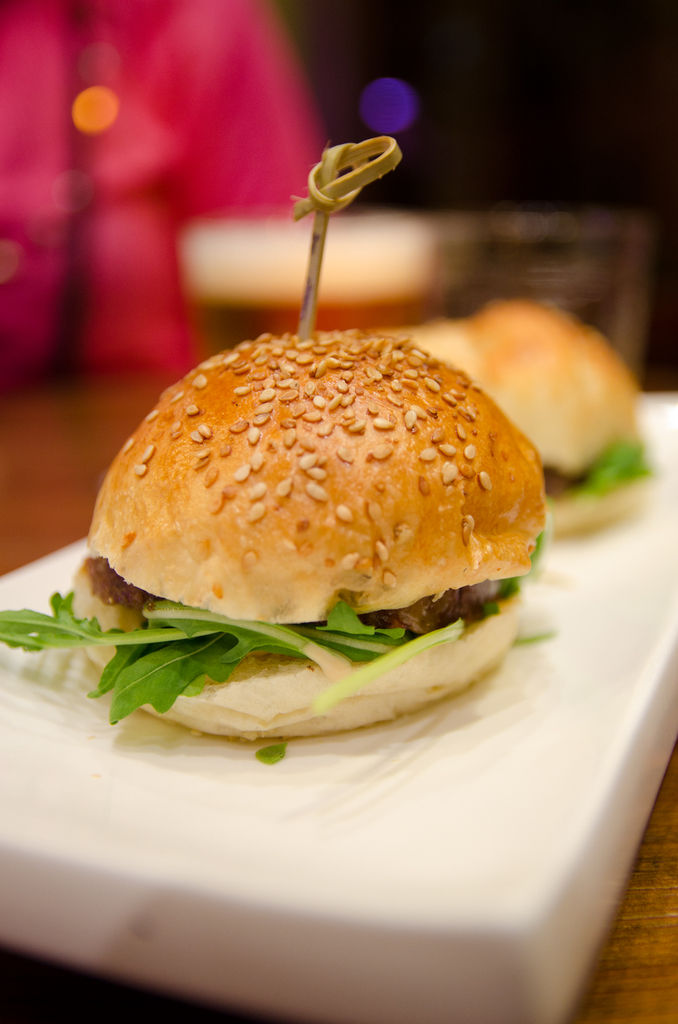Hamburger: (0, 329, 544, 742), (408, 301, 642, 481)
